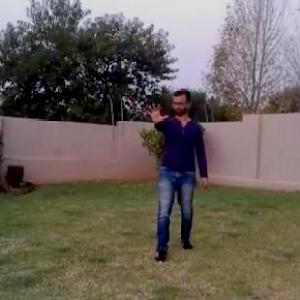follow_hand: (142, 98, 168, 125)
